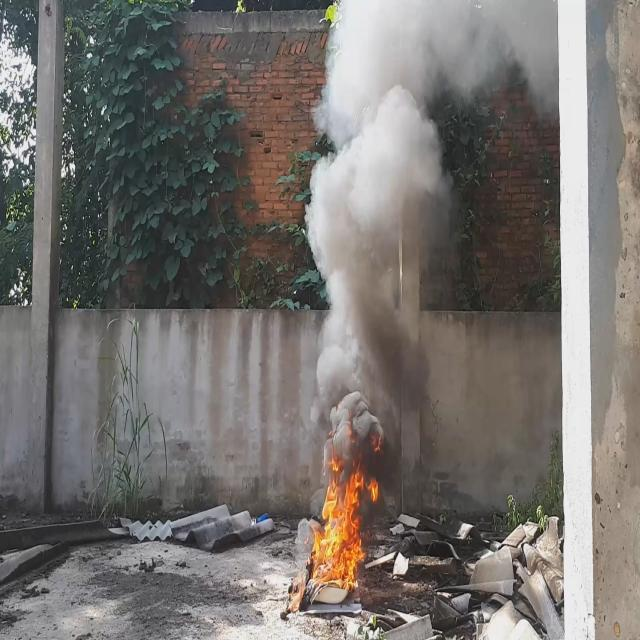Fire: (311, 462, 374, 582)
Smoke: (304, 0, 555, 496)
